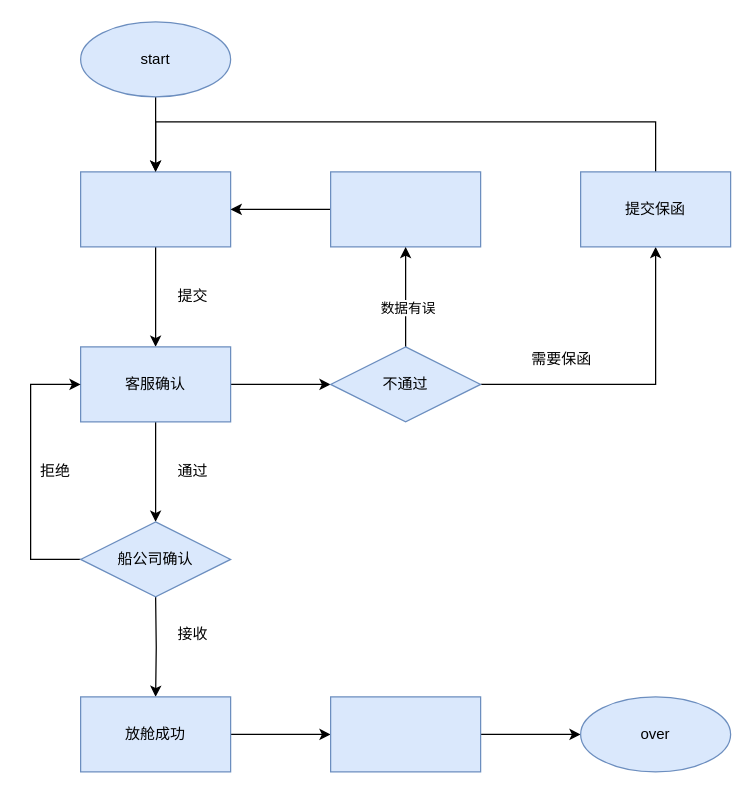
Image size: 753x794. Some labels were removed from this diagram. The box of each missing label's shape, as (x1, y1, x2, y2) in pixels:
修改数据: (329, 171, 481, 247)
生成提单补料数据: (329, 696, 481, 772)
用户提交订舱数据: (79, 171, 231, 247)
